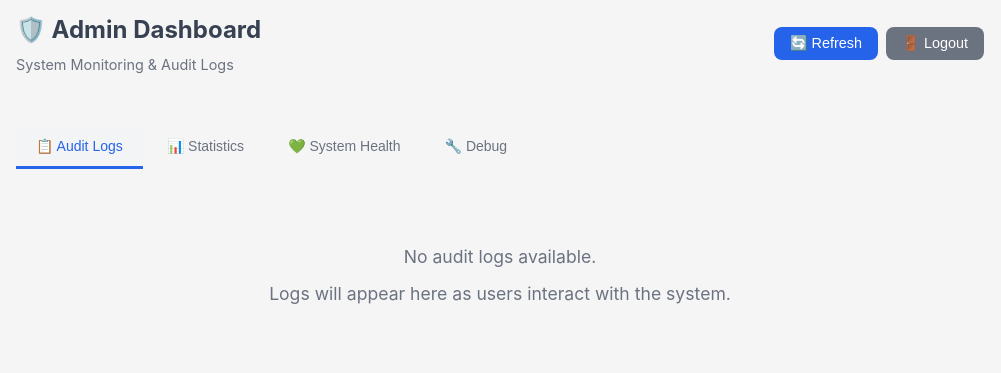
AdminPanel › Dashboard Tabs › switches between tabs
Expected: the button "📋 Audit Logs" is shown, [16,126,143,169]
// Click on Statistics tab
Step 1. Click the button "📊 Statistics" → (206, 148), box [147,126,264,169]
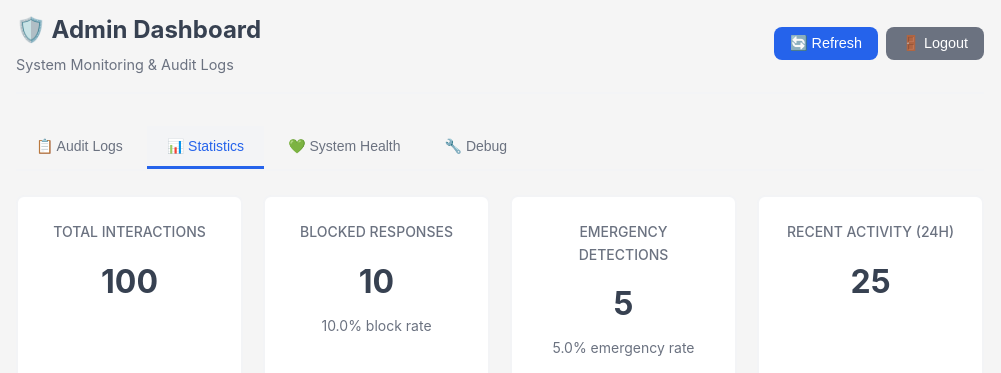
Now the heading "Total Interactions" is shown, box [42,221,217,244]
// Click on System Health tab
Step 2. Click the button "💚 System Health" → (344, 148), box [268,126,420,169]
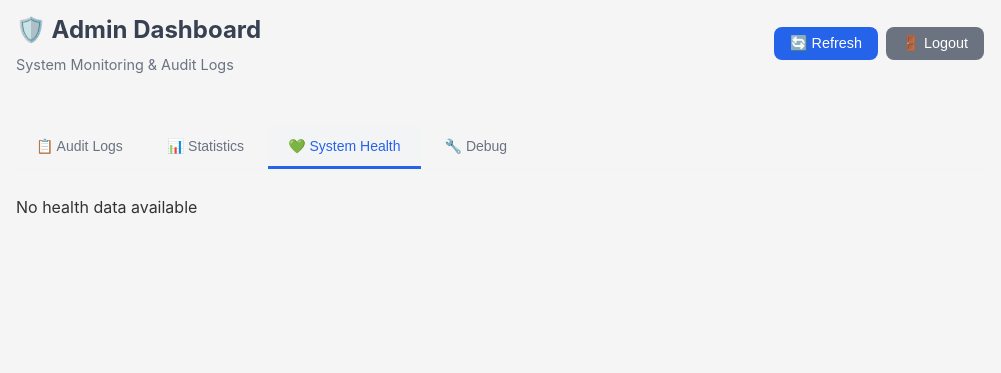
Now the text "No health data available" is shown, box [16,197,197,217]
// Click on Debug tab
Step 3. Click the button "🔧 Debug" → (476, 148), box [424,126,527,169]
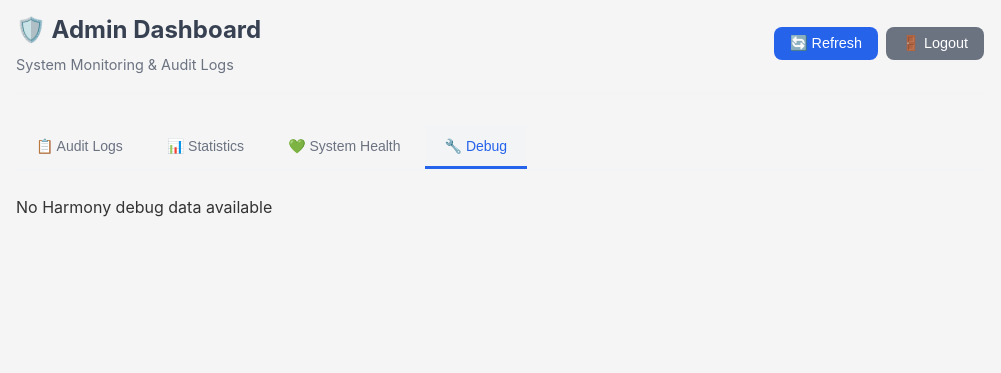
Now the text "No Harmony debug data available" is shown, box [16,197,272,217]
